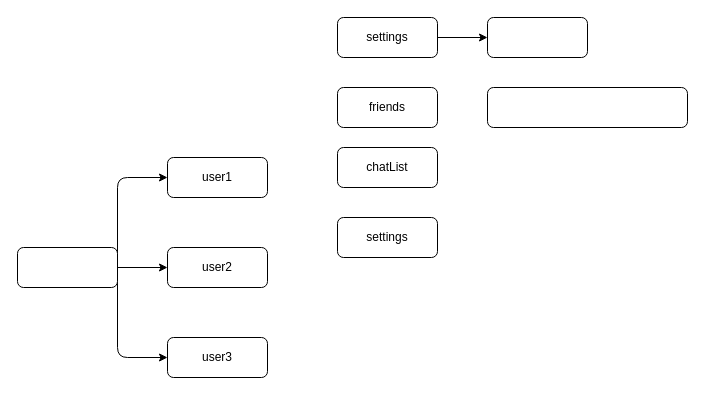
This 705x395 diagram has some shape labels left out. The centre of each missing label's shape, as x and y in pixels:
"App" belongs at (67,267).
"List[]" belongs at (587,107).
"userinfo、Token" belongs at (537,37).
